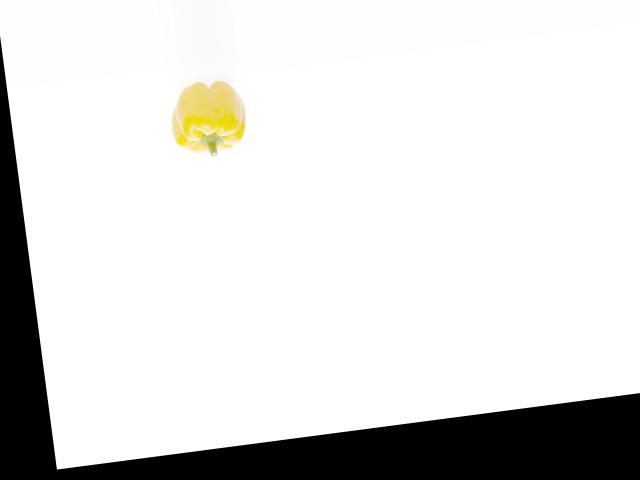bell_pepper: (161, 75, 250, 164)
